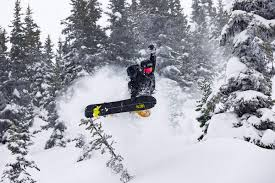snowboard: (82, 95, 158, 118)
